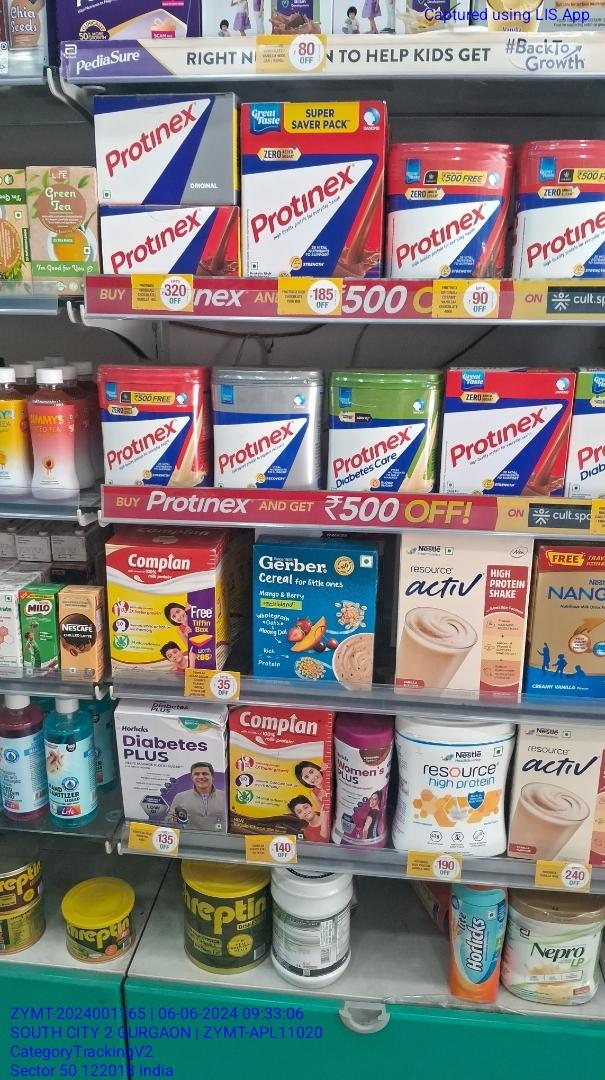COMPLAN_CHOCOLATE_500_GMS_PACK: (227, 705, 328, 835)
COMPLAN_KESAR_BADAM_500_GMS_PACK: (110, 545, 212, 680)
HORLICKS_LITE_REGULAR_MALT_500_GM_JAR: (447, 884, 506, 1007)
PROTINEX_CHOCOLATE_400_G_JAR: (386, 143, 506, 278), (513, 135, 605, 282)
PROTINEX_ORIGINAL_400_G_JAR: (212, 363, 316, 491)
PROTINEX_VANILLA_400_G_JAR: (99, 363, 197, 489)
